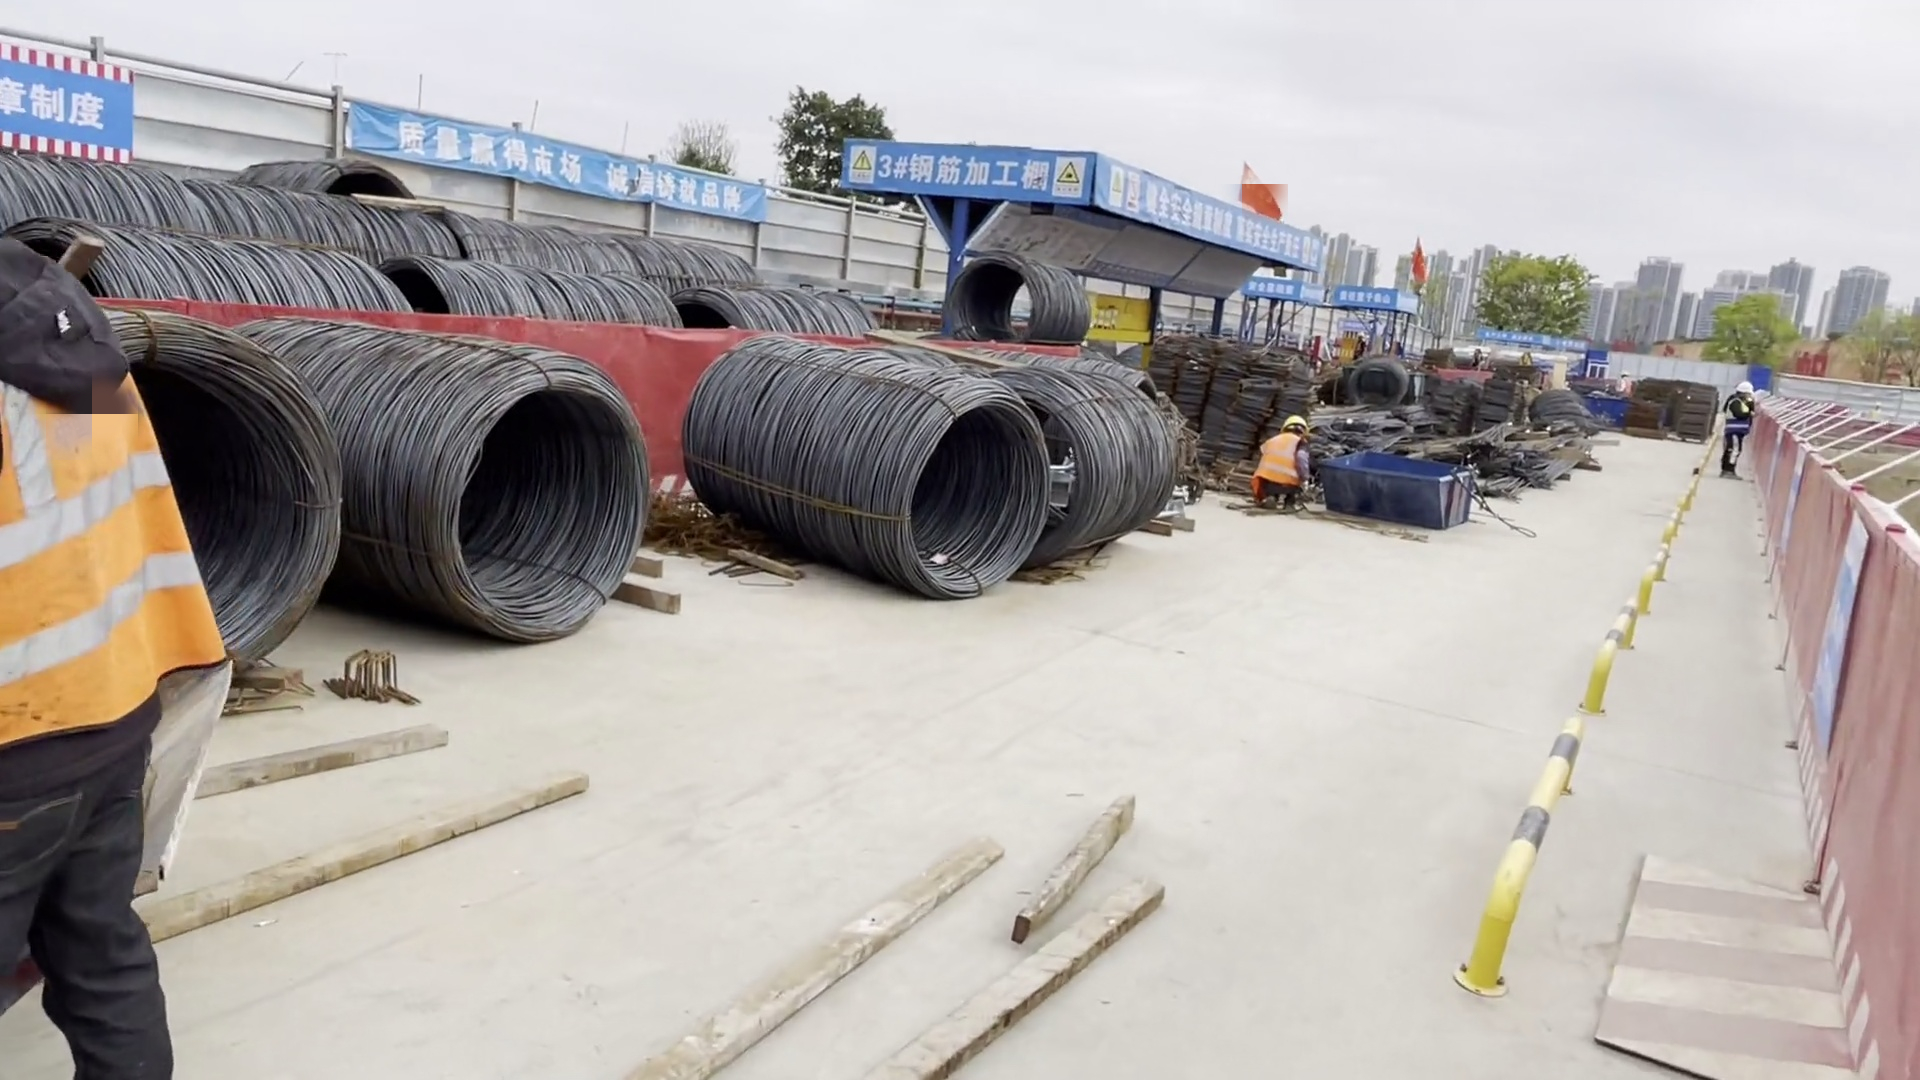fence: (1786, 448, 1914, 1080), (750, 187, 946, 307)
helmet: (1283, 413, 1312, 426), (1733, 378, 1757, 393)
hopper: (1335, 447, 1473, 527)
person: (1, 240, 197, 1080), (1249, 410, 1321, 524), (1716, 366, 1762, 486), (1616, 369, 1636, 400), (1354, 331, 1369, 361)
slogan: (397, 109, 755, 232), (1106, 173, 1327, 268), (1798, 504, 1881, 746), (865, 147, 1098, 207), (1334, 287, 1405, 308), (1249, 277, 1303, 301)
vest: (5, 307, 198, 723), (1258, 434, 1305, 486), (1724, 400, 1756, 435)
